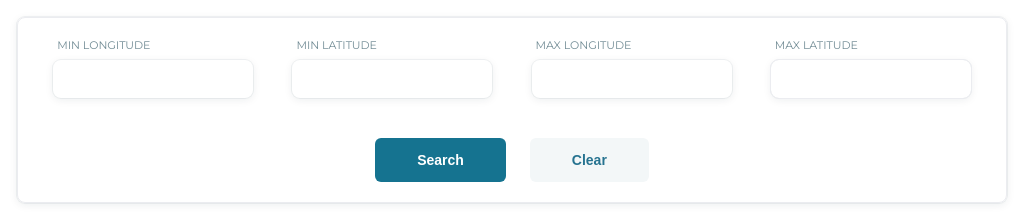
Test case: should display error if maximum input values are lesser than minimum input values
In the number field labelled "min longitude": [153, 79] box [53,60,253,98], type "5.0"
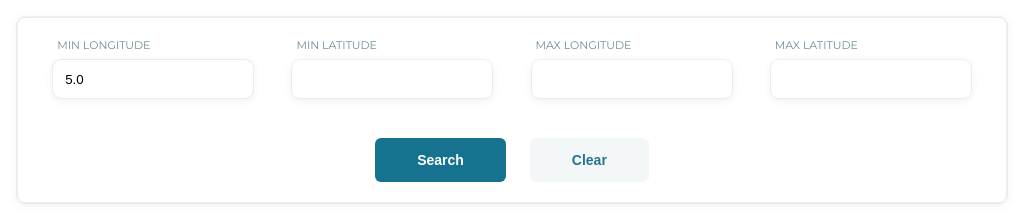
In the number field labelled "min latitude": [392, 79] box [292,60,492,98], type "6.0"
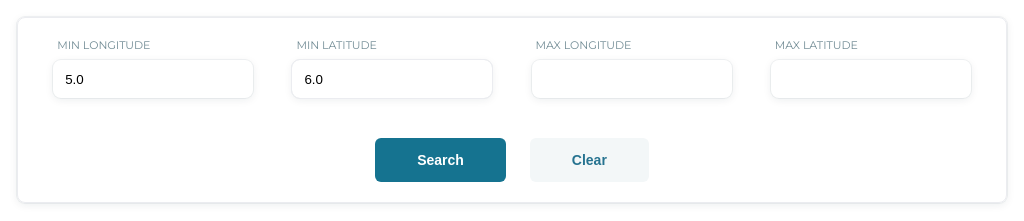
In the number field labelled "max longitude": [632, 79] box [532,60,732,98], type "1.0"
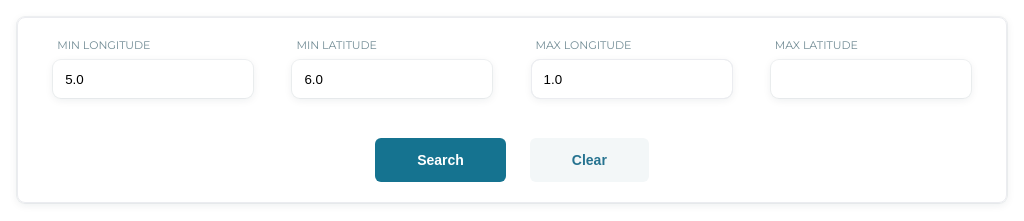
In the number field labelled "max latitude": [871, 79] box [771,60,971,98], type "2.0"
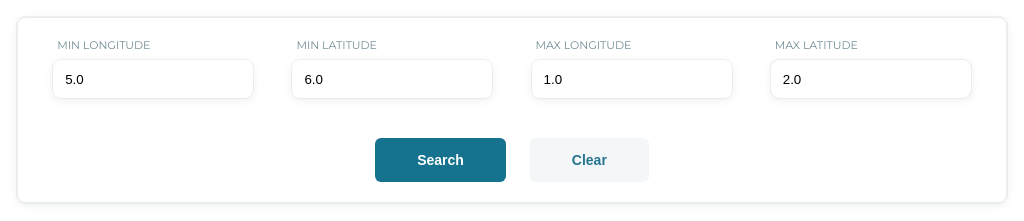
Click the button "Search": [440, 160] box [375,138,506,182]
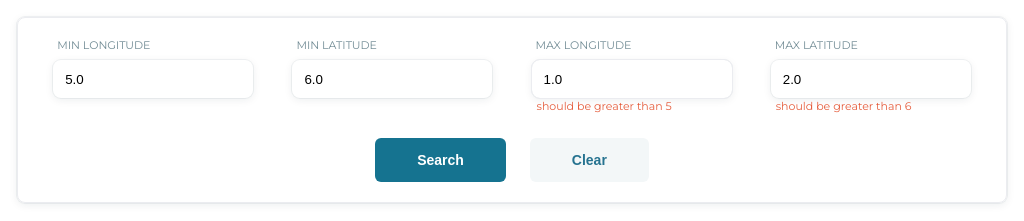
Now the text "should be greater than 6" is shown, box [776,99,912,113]
Now the text "should be greater than 5" is shown, box [537,99,672,113]
